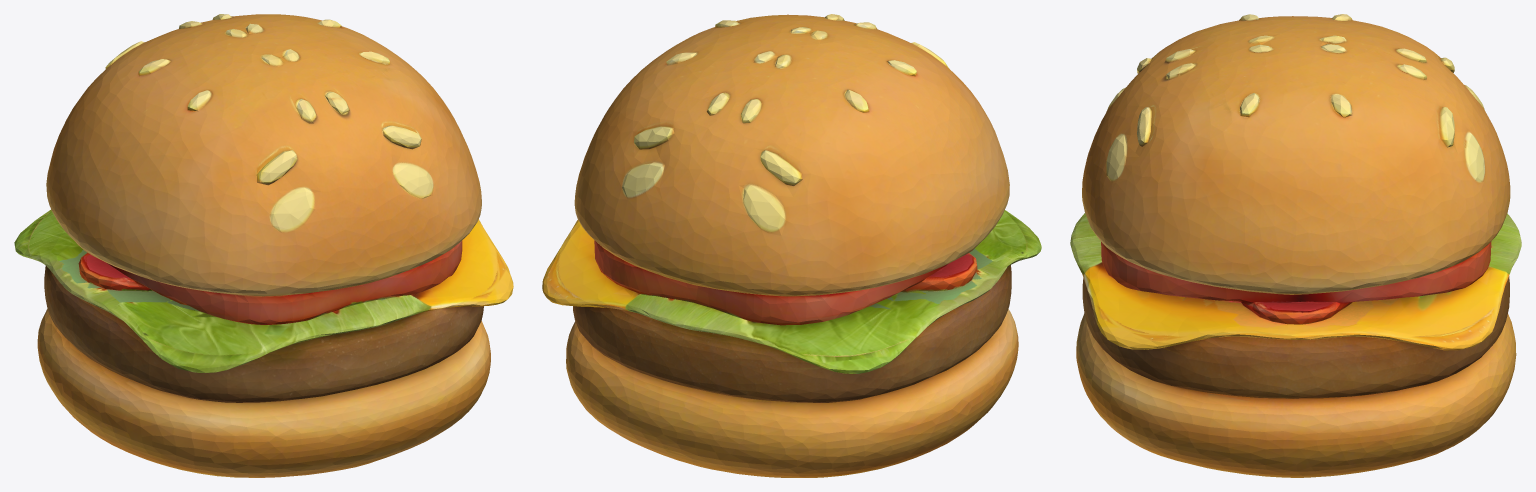
File: Burger_Delight_0602083647_texture.fbx
3 renders of one model, left to right at view 1: azimuth 30°, elevation 25°; view 2: azimuth 150°, elevation 25°; view 3: azimuth 270°, elevation 25°, orthographic.
Parts seen in each view (by area): view 1: temp; view 2: temp; view 3: temp.
Boxes of the visible parts, bbox=[...] form: temp: bbox=[14, 14, 513, 477]; temp: bbox=[542, 14, 1041, 477]; temp: bbox=[1070, 14, 1521, 477].
Size of the model in its own units: 200 by 184 by 199.
1 material, 1 textured.
